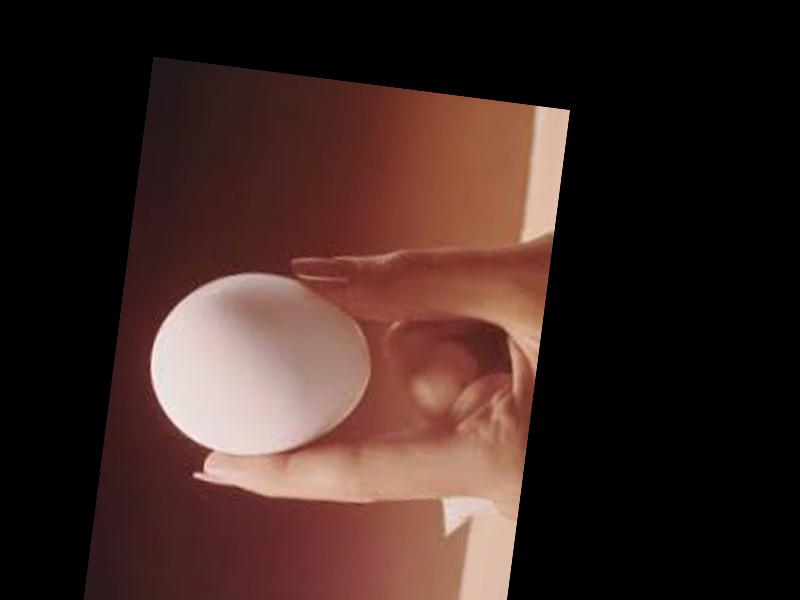Eggs: (141, 257, 384, 470)
